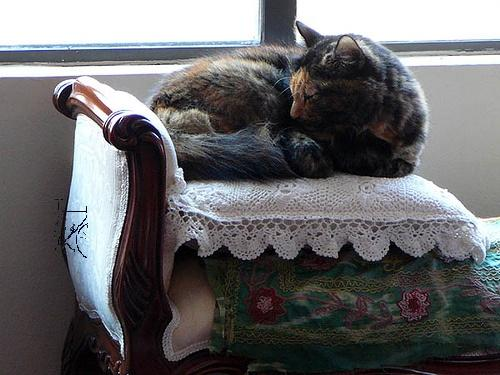tampered: (55, 200, 88, 258)
